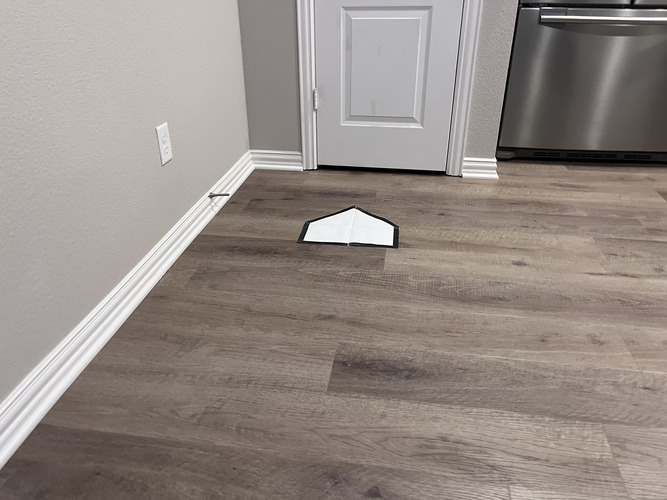homeplate: (295, 205, 398, 250)
